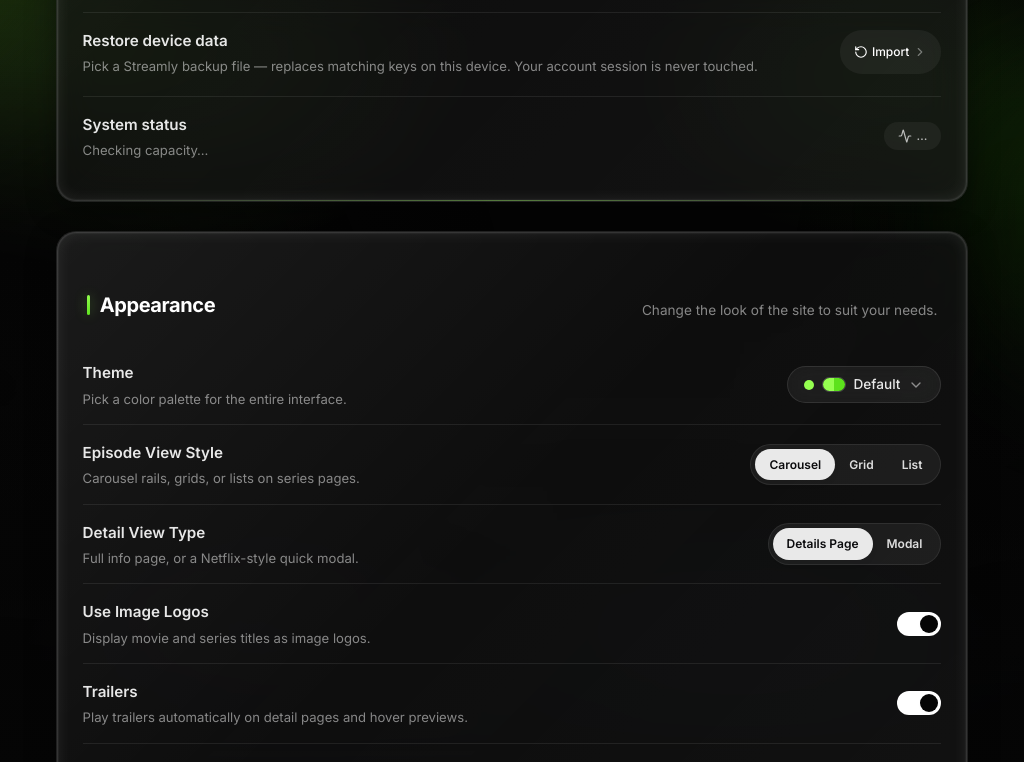
Scenario: SettingsPage › keeps only one popup open at a time
The image size is (1024, 762).
(page scrolled)
Click the button with aria-label "theme, current". click: (864, 385)
box: [786,366,941,403]
(page scrolled)
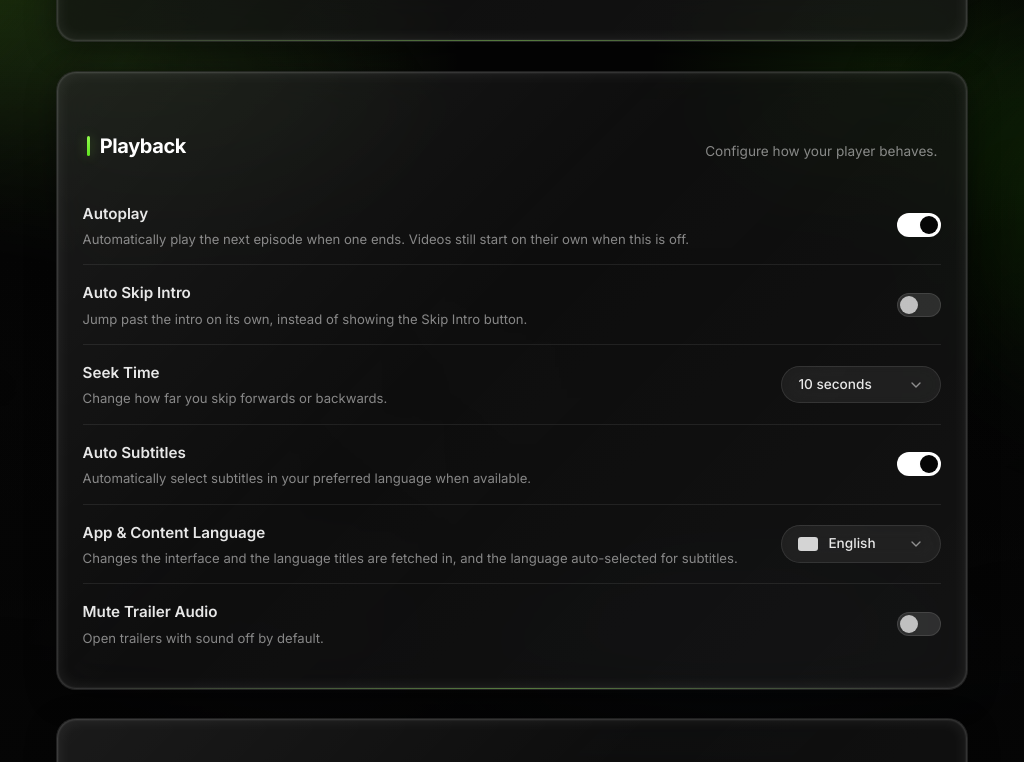
Click the button with aria-label "seek time, current". click: (861, 384)
box: [781,366,941,403]
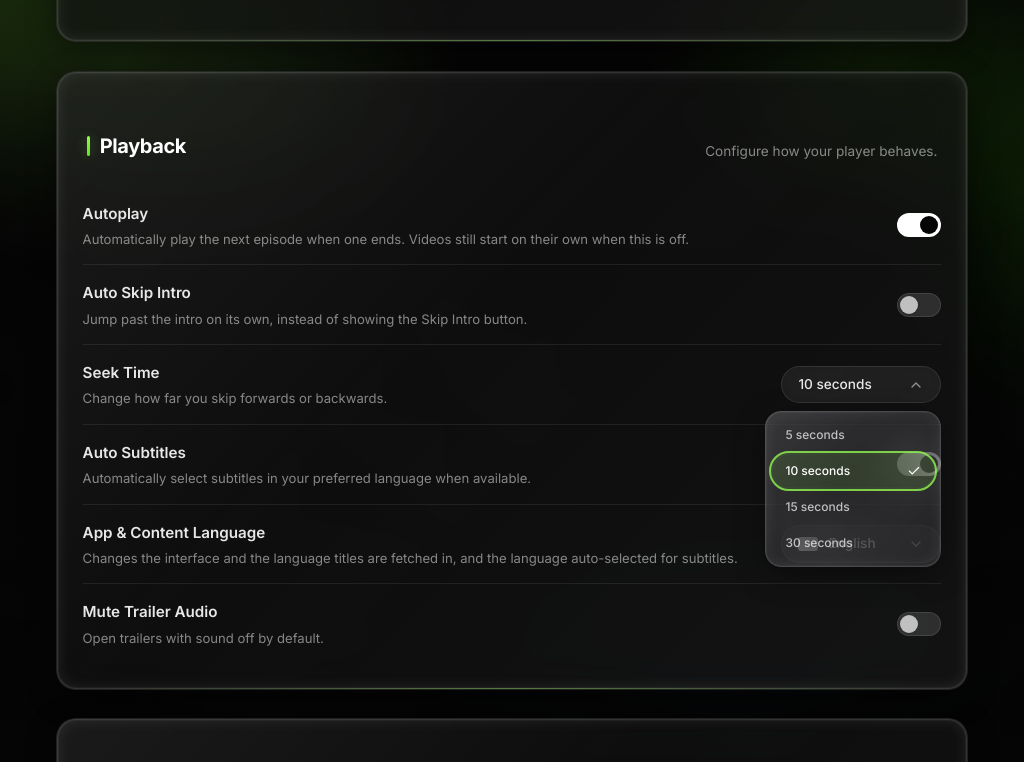
Expected: the list named "seek time" is shown, [765,411,941,567]
